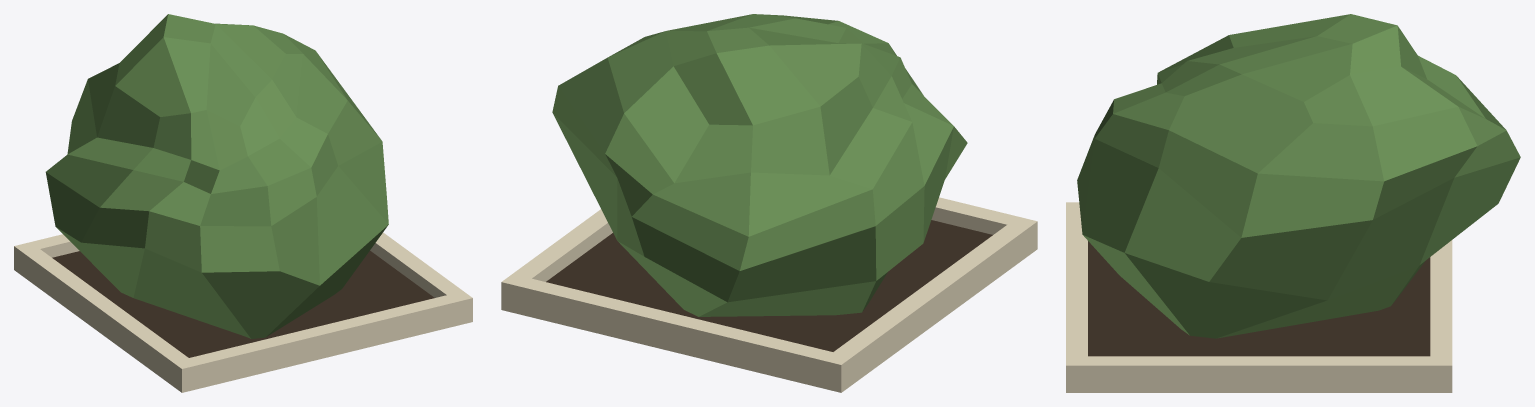
Rendered from OneBush.fbx.
The picture shows the model from 3 angles, left to right: view 1: azimuth 30°, elevation 25°; view 2: azimuth 150°, elevation 25°; view 3: azimuth 270°, elevation 25°; orthographic projection. The views are drawn at different scales.
Visible parts, largest first — view 1: pCube28, pCube27; view 2: pCube28, pCube27; view 3: pCube28, pCube27.
Boxes of the visible parts, x1=… form: pCube28: x1=45, y1=14, x2=388, y2=338; pCube27: x1=14, y1=232, x2=472, y2=392; pCube28: x1=552, y1=14, x2=967, y2=316; pCube27: x1=501, y1=197, x2=1037, y2=392; pCube28: x1=1077, y1=14, x2=1520, y2=338; pCube27: x1=1066, y1=202, x2=1452, y2=392.
Size of the model in its own units: 0.1425 by 0.1124 by 0.1669.
